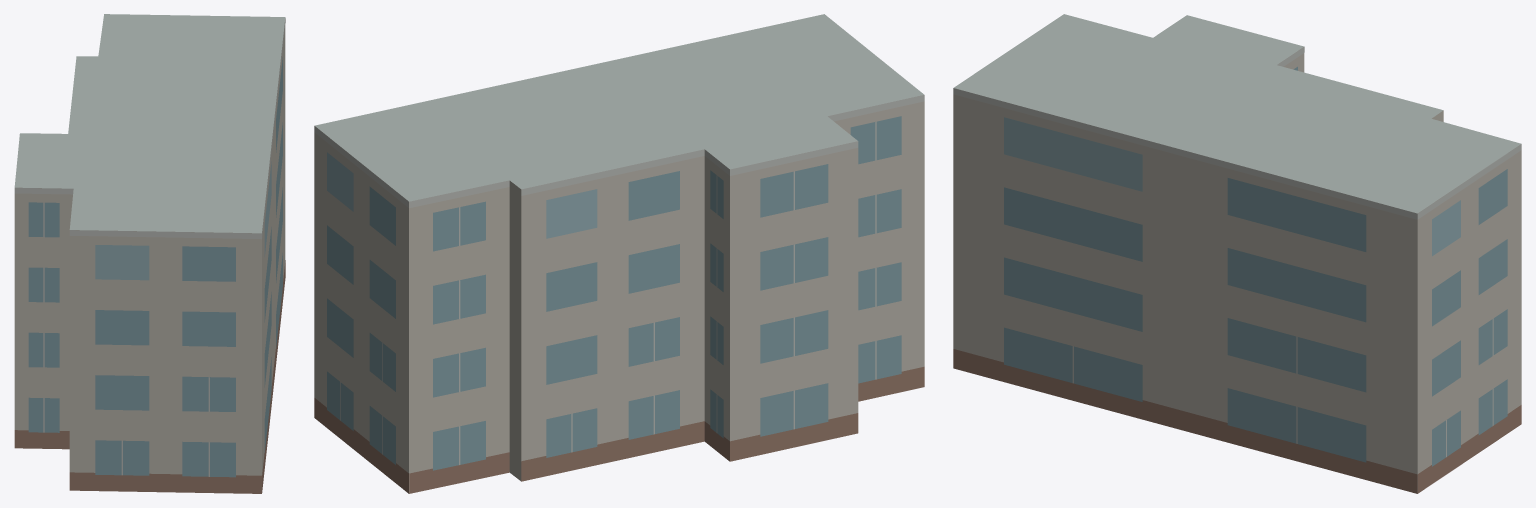
File: survey-upis-32478674.glb
3 views of the same model, side by side, from view 1: azimuth 30°, elevation 25°; view 2: azimuth 150°, elevation 25°; view 3: azimuth 270°, elevation 25° (orthographic). The views are drawn at different scales.
Parts seen in each view (by area): view 1: survey-upis-32478674.tmp; view 2: survey-upis-32478674.tmp; view 3: survey-upis-32478674.tmp.
Boxes of the visible parts, x1,y1,x2,y2 form: survey-upis-32478674.tmp: [14, 14, 285, 493]; survey-upis-32478674.tmp: [314, 14, 924, 493]; survey-upis-32478674.tmp: [953, 14, 1521, 493].
Bounding box in the file's own units: 16.53 × 10.83 × 19.91.
